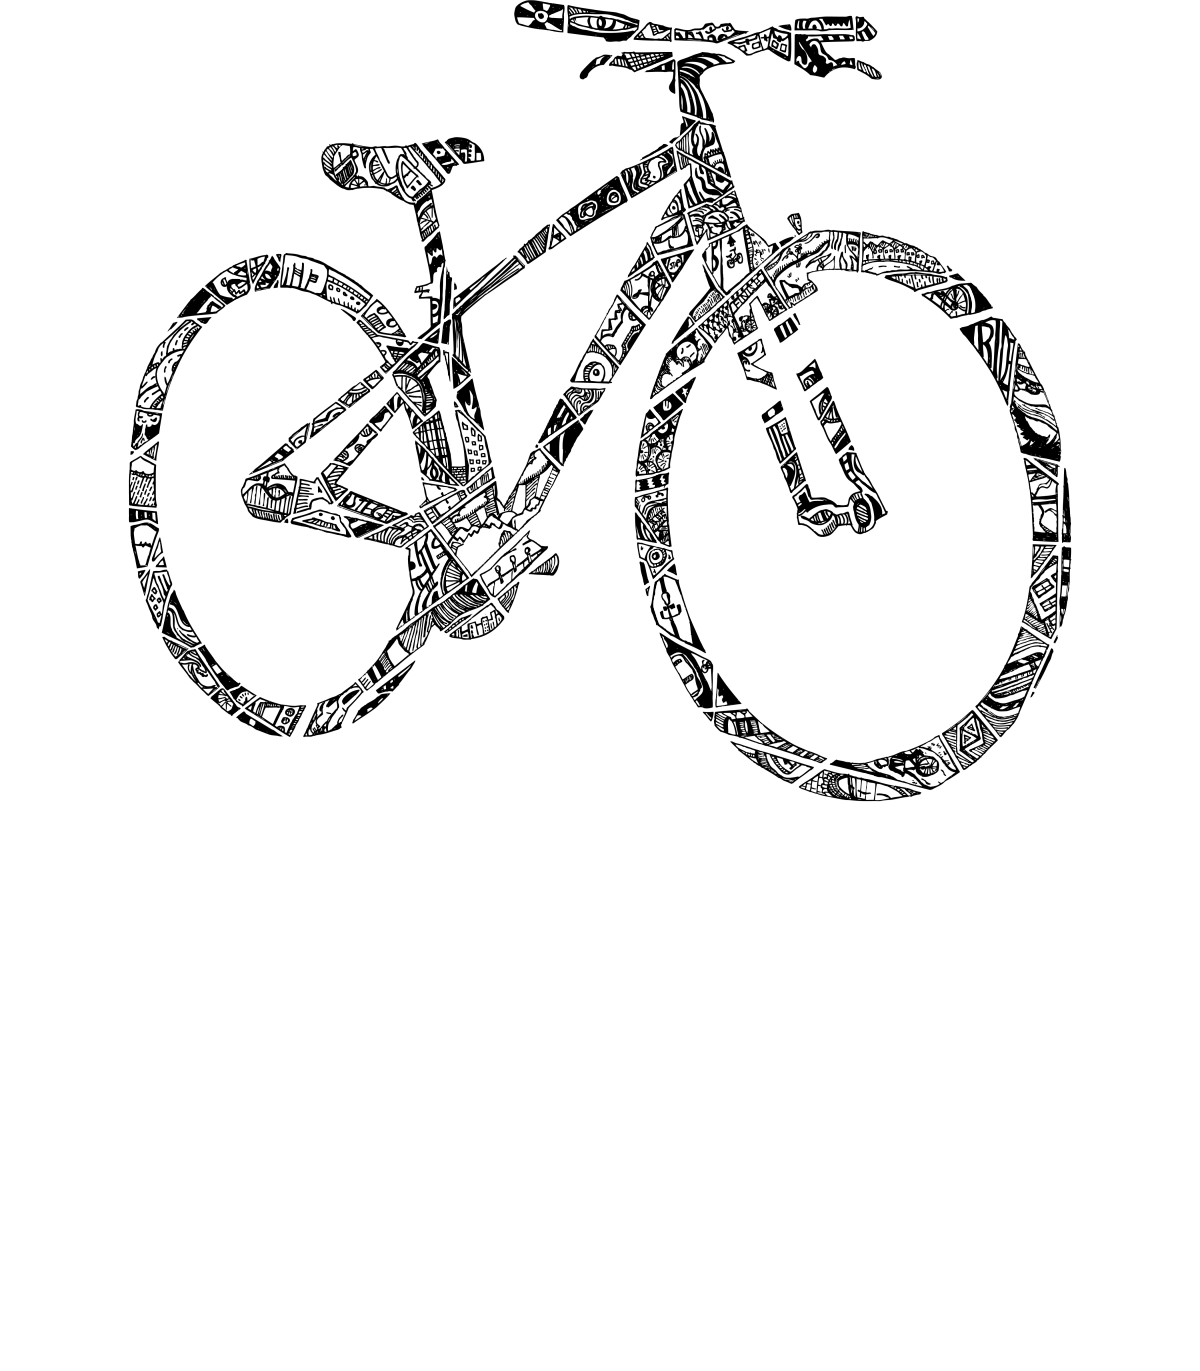design: (115, 1, 1122, 841)
